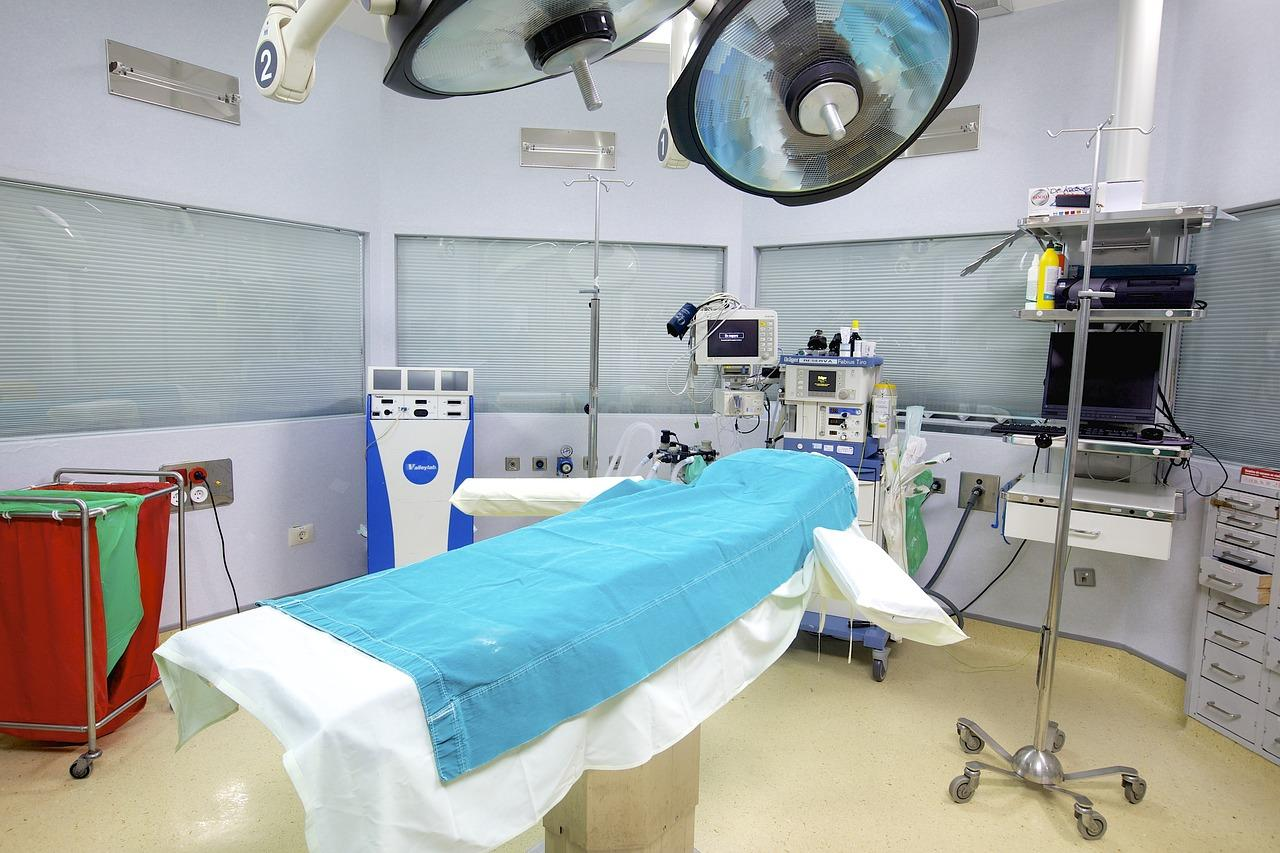Monitor: (689, 300, 784, 402)
Saline Stand: (930, 108, 1163, 846)
bed: (154, 447, 869, 851)
tools_table: (1, 443, 191, 773)
